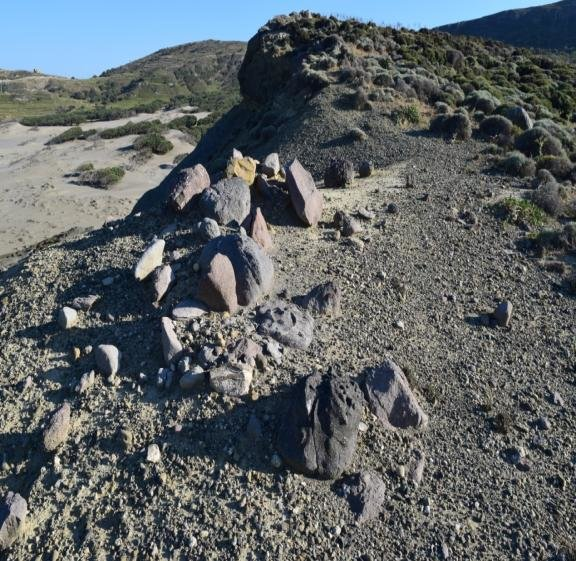volcanic_rock: (156, 282, 345, 416), (287, 365, 429, 503)
